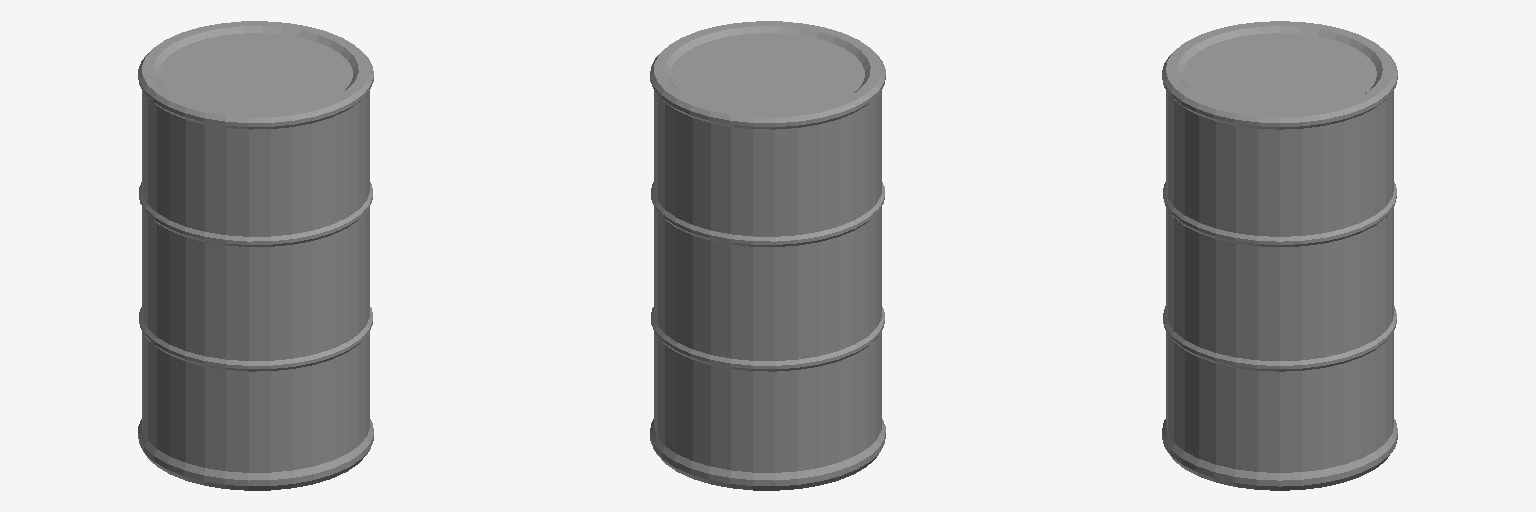
The model's file is barrel.obj.
3 views of the same model, side by side, from view 1: azimuth 30°, elevation 25°; view 2: azimuth 150°, elevation 25°; view 3: azimuth 270°, elevation 25° (orthographic).
Parts seen in each view (by area): view 1: Cylinder.013_Cylinder.017; view 2: Cylinder.013_Cylinder.017; view 3: Cylinder.013_Cylinder.017.
Part boxes in pixels (left/top/right/bottom): Cylinder.013_Cylinder.017: left=138, top=21, right=373, bottom=490; Cylinder.013_Cylinder.017: left=650, top=21, right=885, bottom=490; Cylinder.013_Cylinder.017: left=1162, top=21, right=1397, bottom=490.
Size of the model in its own units: 0.62 by 1.08 by 0.62.